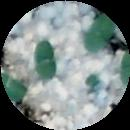Basil: (84, 16, 112, 52), (35, 41, 59, 82), (120, 57, 130, 85)
